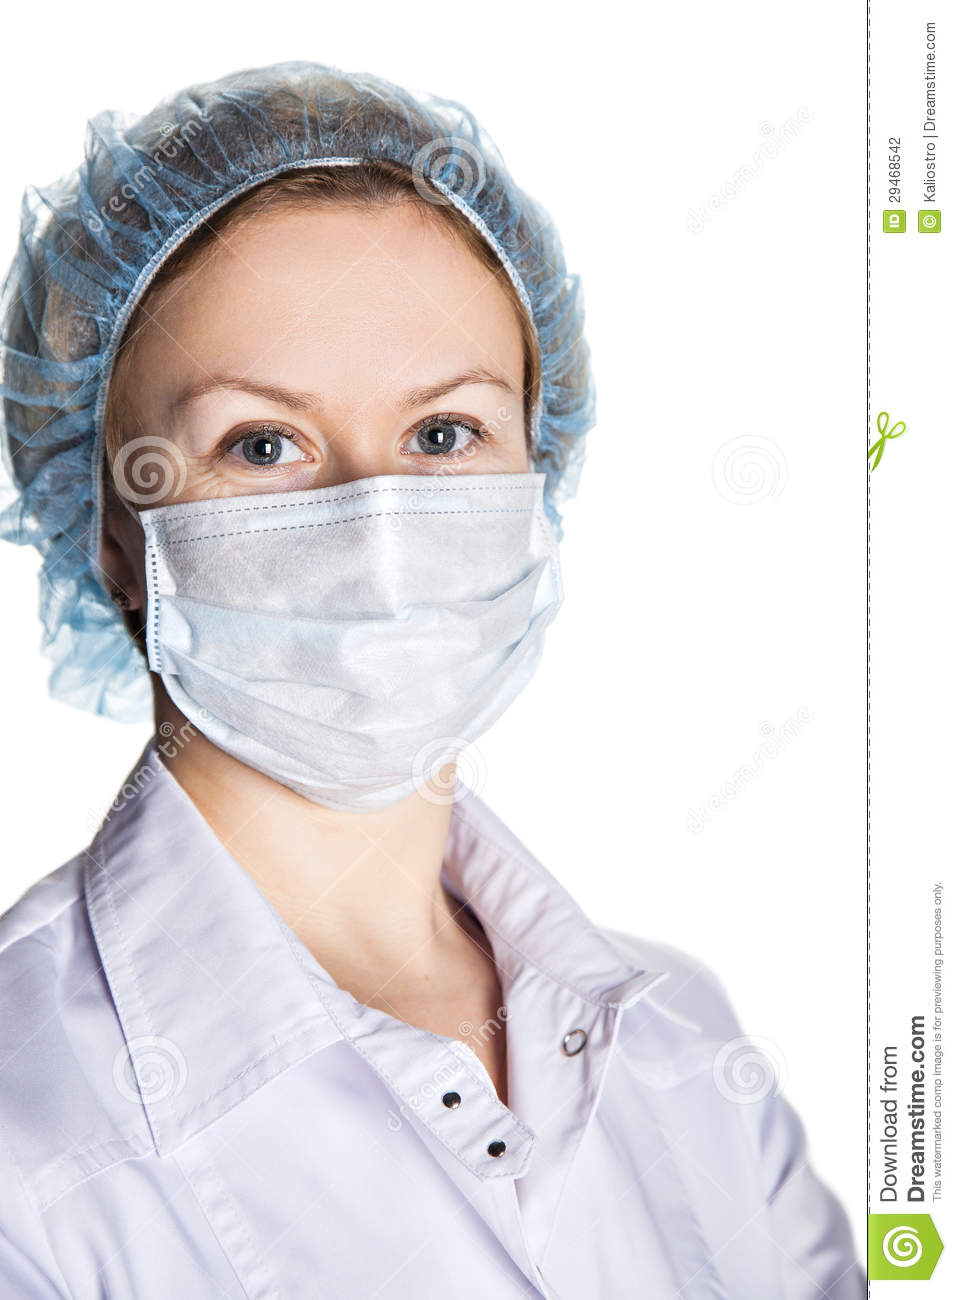mask: (126, 465, 560, 809)
